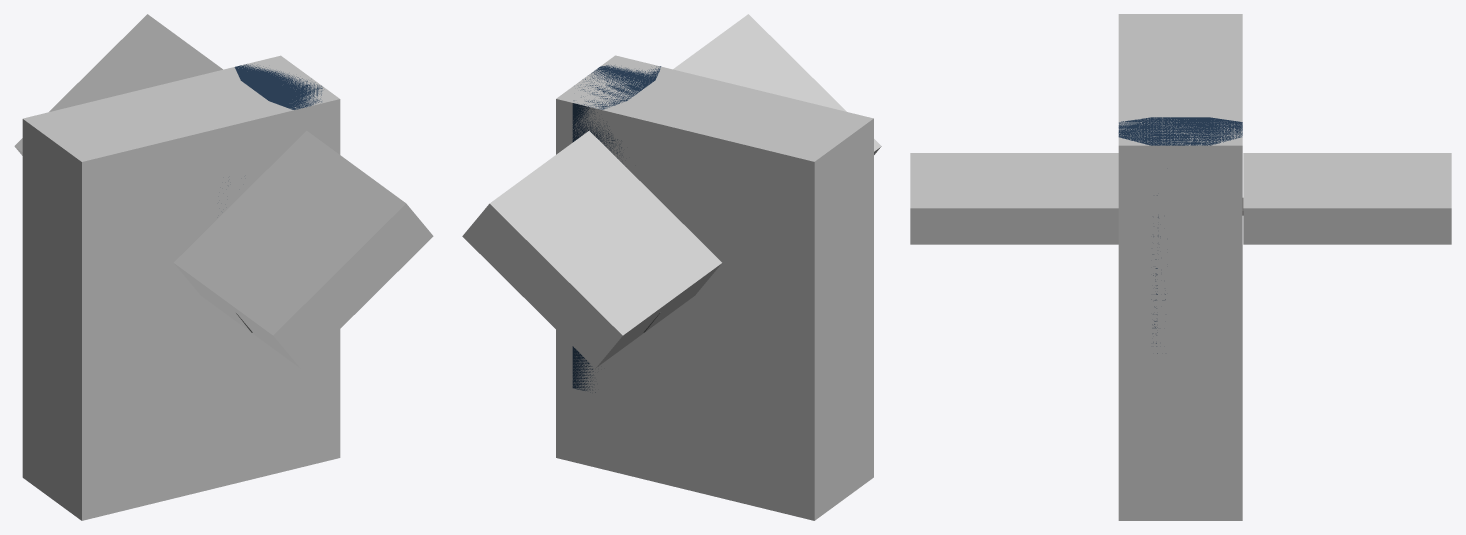
The model's file is SM_Drone_02.fbx.
The picture shows the model from 3 angles, left to right: view 1: azimuth 30°, elevation 25°; view 2: azimuth 150°, elevation 25°; view 3: azimuth 270°, elevation 25°; orthographic projection. The views are drawn at different scales.
Parts seen in each view (by area): view 1: SM_Drone_02_ConvexHulls, SM_Drone_02; view 2: SM_Drone_02_ConvexHulls, SM_Drone_02; view 3: SM_Drone_02_ConvexHulls, SM_Drone_02.
Boxes of the visible parts, x1,y1,x2,y2 form: SM_Drone_02_ConvexHulls: (14,14,433,520); SM_Drone_02: (234,64,322,332); SM_Drone_02_ConvexHulls: (462,14,881,520); SM_Drone_02: (572,65,661,392); SM_Drone_02_ConvexHulls: (910,14,1451,520); SM_Drone_02: (1118,117,1243,353).
Size of the model in its own units: 96.87 by 168 by 129.
2 materials, 1 textured.
